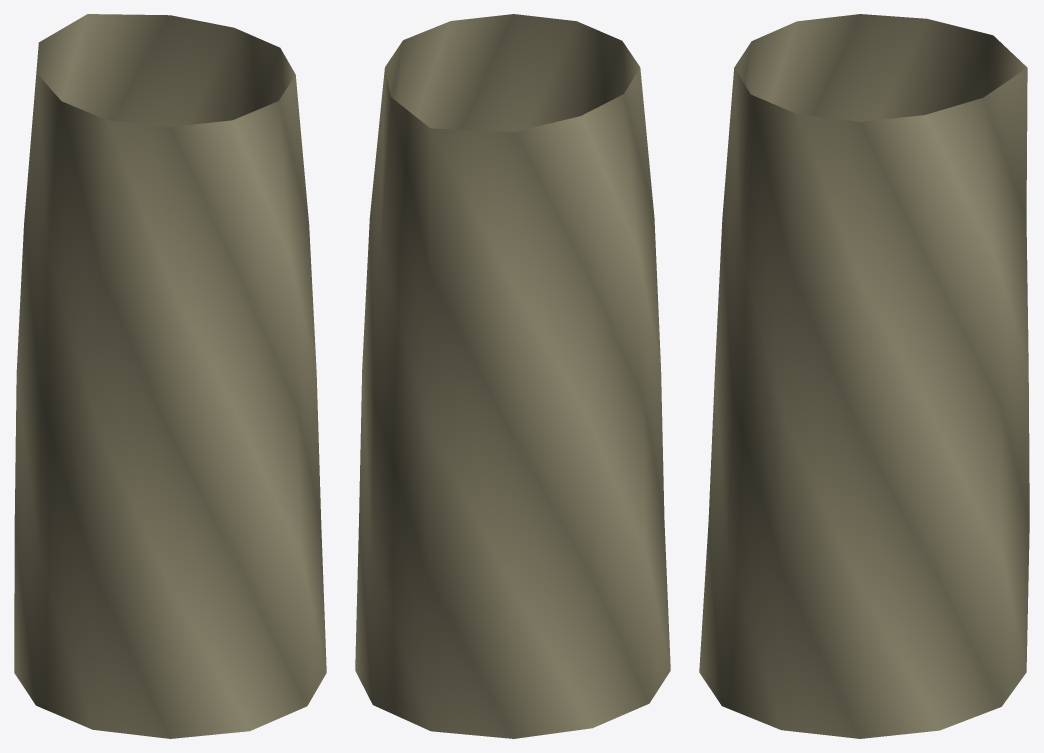
File: tin_armor_greave.R.glb
3 renders of one model, left to right at view 1: azimuth 30°, elevation 25°; view 2: azimuth 150°, elevation 25°; view 3: azimuth 270°, elevation 25°, orthographic.
Parts seen in each view (by area): view 1: tin_armor_greave.R; view 2: tin_armor_greave.R; view 3: tin_armor_greave.R.
Part boxes in pixels (box(x1,y1,x2,y2)): tin_armor_greave.R: box(14, 14, 326, 738); tin_armor_greave.R: box(355, 14, 670, 738); tin_armor_greave.R: box(699, 14, 1029, 738).
Bounding box in the file's own units: 0.1776 × 0.3767 × 0.1866.
